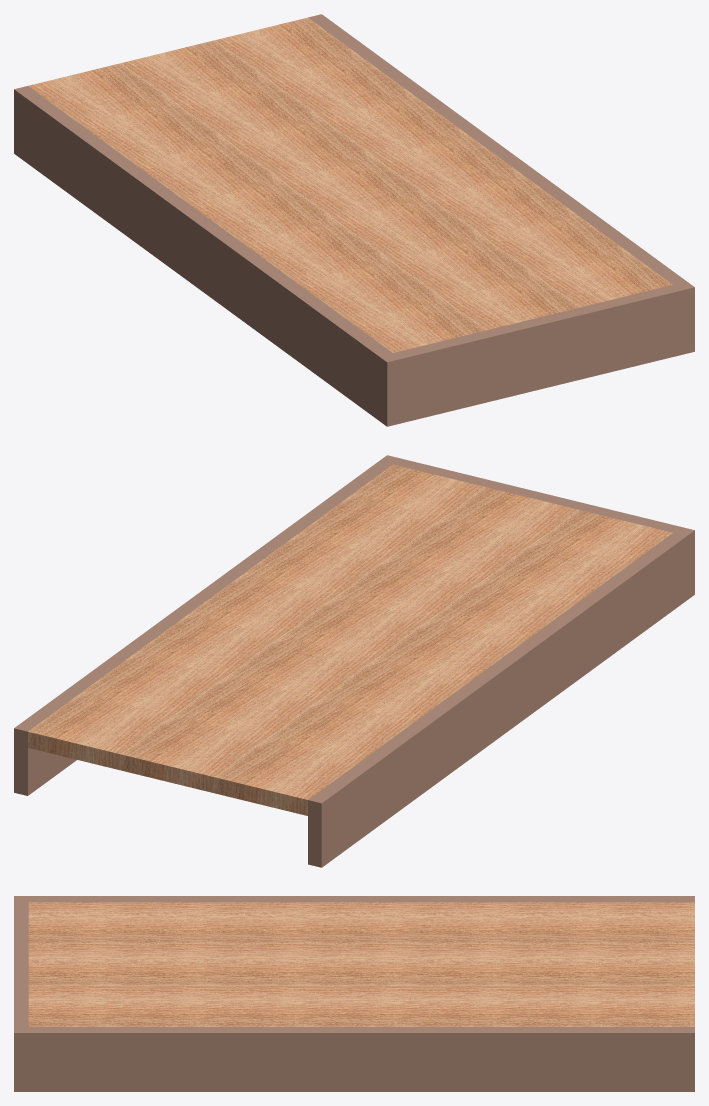
3 renders of one model, top to bottom at view 1: azimuth 30°, elevation 25°; view 2: azimuth 150°, elevation 25°; view 3: azimuth 270°, elevation 25°, orthographic. The views are drawn at different scales.
Parts seen in each view (by area): view 1: 0_3_1_2_1_2_2_3; view 2: 0_3_1_2_1_2_2_3; view 3: 0_3_1_2_1_2_2_3.
Part boxes in pixels (x1,y1,x2,y2): 0_3_1_2_1_2_2_3: [14, 14, 694, 426]; 0_3_1_2_1_2_2_3: [14, 455, 694, 867]; 0_3_1_2_1_2_2_3: [14, 896, 694, 1091].
Size of the model in its own units: 1 by 0.2 by 2.1.
2 materials, 1 textured.
